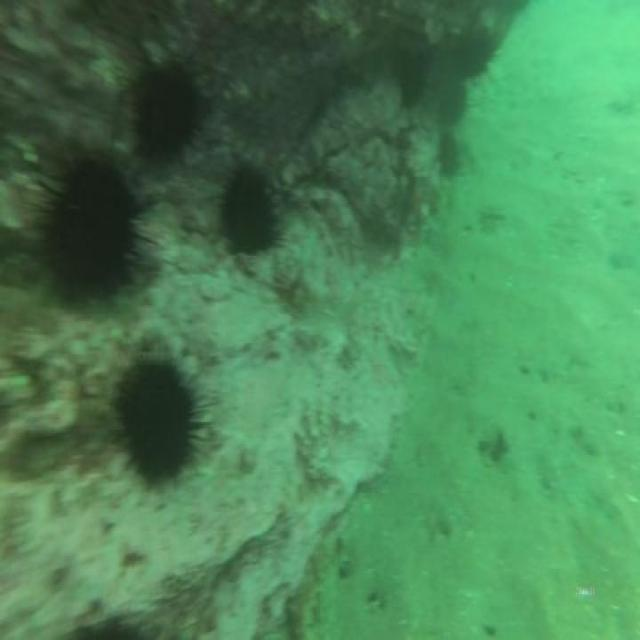echinus: (29, 139, 164, 319), (105, 330, 218, 506), (129, 54, 212, 177), (217, 147, 287, 275)
